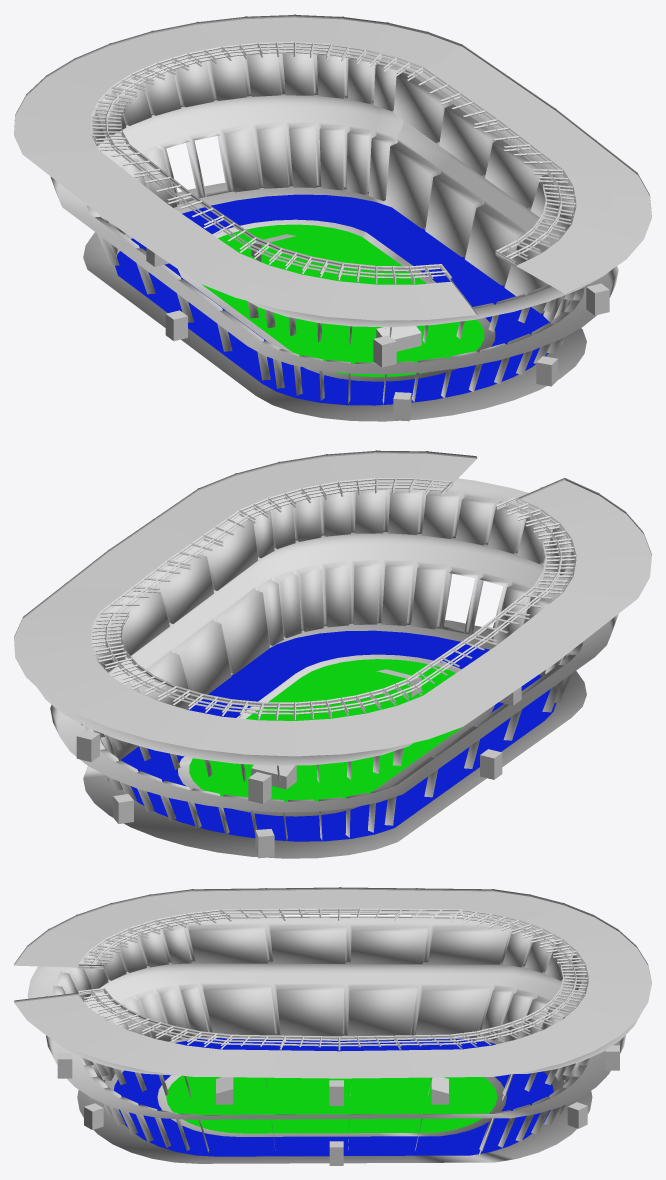
The model's file is Olympiastadion.glb.
3 views of the same model, one above another, from view 1: azimuth 30°, elevation 25°; view 2: azimuth 150°, elevation 25°; view 3: azimuth 270°, elevation 25° (orthographic). The views are drawn at different scales.
Parts seen in each view (by area): view 1: Circle, Circle.003, Circle.001, Circle.004, Circle.002, OlympiaAmeneties.001, OlympiaGoalPost; view 2: Circle, Circle.003, Circle.001, Circle.004, Circle.002, OlympiaAmeneties.001, OlympiaGoalPost.001; view 3: Circle, Circle.003, Circle.002, Circle.001, Circle.004, OlympiaAmeneties.001, OlympiaGoalPost, OlympiaGoalPost.001.
Part boxes in pixels (bbox=[...]): Circle: bbox=[50, 47, 618, 421]; Circle.003: bbox=[14, 14, 651, 320]; Circle.001: bbox=[115, 194, 550, 405]; Circle.004: bbox=[91, 41, 576, 283]; Circle.002: bbox=[202, 224, 484, 377]; OlympiaAmeneties.001: bbox=[146, 247, 609, 421]; OlympiaGoalPost: bbox=[376, 326, 421, 351]; Circle: bbox=[37, 478, 618, 858]; Circle.003: bbox=[14, 450, 651, 756]; Circle.001: bbox=[119, 630, 556, 841]; Circle.004: bbox=[91, 478, 576, 720]; Circle.002: bbox=[189, 659, 463, 801]; OlympiaAmeneties.001: bbox=[76, 686, 521, 858]; OlympiaGoalPost.001: bbox=[251, 764, 296, 789]; Circle: bbox=[27, 916, 639, 1163]; Circle.003: bbox=[14, 887, 651, 1078]; Circle.002: bbox=[166, 1075, 497, 1133]; Circle.001: bbox=[114, 1038, 553, 1156]; Circle.004: bbox=[78, 908, 588, 1050]; OlympiaAmeneties.001: bbox=[57, 1045, 619, 1165]; OlympiaGoalPost: bbox=[216, 1077, 233, 1104]; OlympiaGoalPost.001: bbox=[431, 1077, 448, 1104].
Size of the model in its own units: 1.87 by 0.7658 by 2.67.
